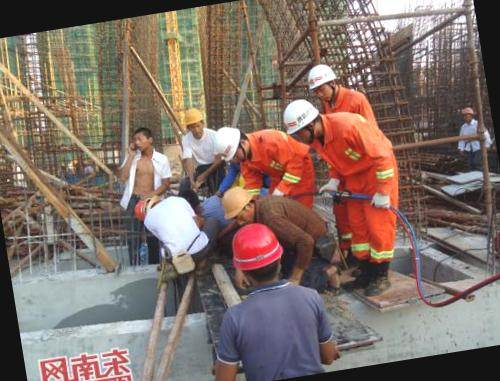no_helmet: (129, 121, 158, 153)
